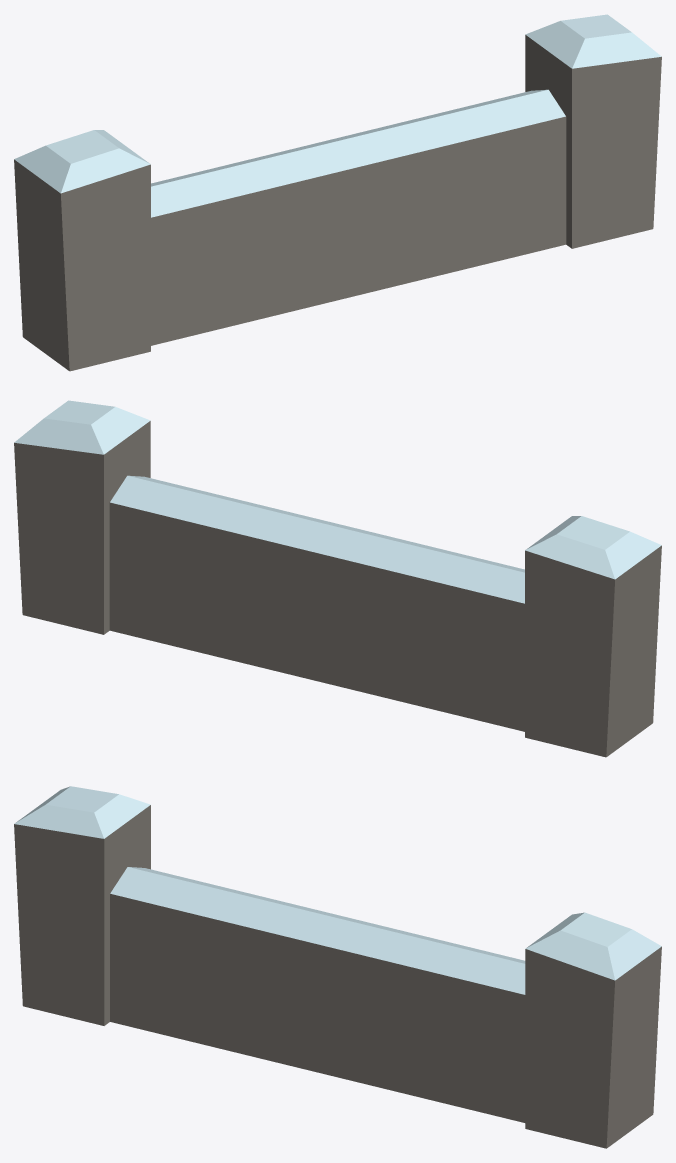
Rendered from SM_Bld_Adventure_Wall_01_Snow.fbx.
The picture shows the model from 3 angles, top to bottom: view 1: azimuth 30°, elevation 25°; view 2: azimuth 150°, elevation 25°; view 3: azimuth 330°, elevation 25°; orthographic projection.
Visible parts, largest first — view 1: SM_Bld_Adventure_Wall_01_Snow; view 2: SM_Bld_Adventure_Wall_01_Snow; view 3: SM_Bld_Adventure_Wall_01_Snow.
Part boxes in pixels (x1=…): SM_Bld_Adventure_Wall_01_Snow: x1=14, y1=14, x2=661, y2=371; SM_Bld_Adventure_Wall_01_Snow: x1=14, y1=400, x2=661, y2=757; SM_Bld_Adventure_Wall_01_Snow: x1=14, y1=786, x2=661, y2=1148.
Bounding box in the file's own units: 122 × 38.98 × 16.49.
Materials: 1 (1 with a texture image).
